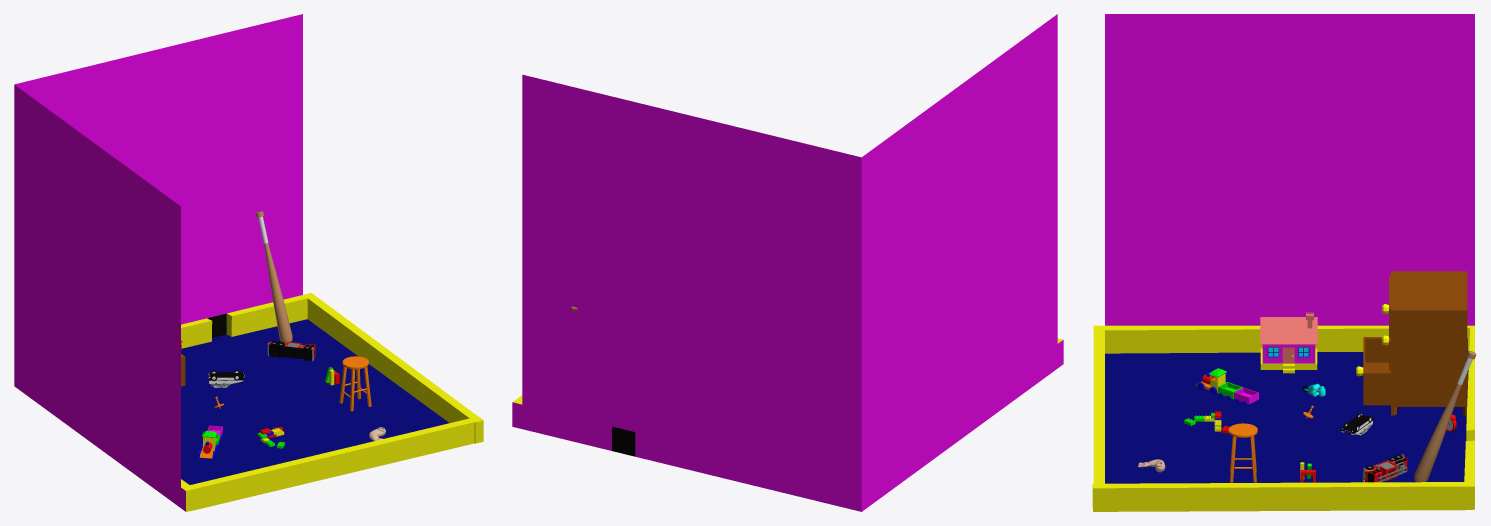
File: Level 6.fbx
3 views of the same model, side by side, from view 1: azimuth 30°, elevation 25°; view 2: azimuth 150°, elevation 25°; view 3: azimuth 270°, elevation 25° (orthographic). The views are drawn at different scales.
Visible parts, largest first — view 1: Environment, BaseballBat, Stool, Firetruck, Train; view 2: Environment; view 3: Environment, Drawer, Dollhouse, BaseballBat, Train, Firetruck, Stool.
Part boxes in pixels (left/top/right/bottom): Environment: left=14, top=14, right=483, bottom=511; BaseballBat: left=256, top=211, right=292, bottom=343; Stool: left=339, top=356, right=371, bottom=411; Firetruck: left=267, top=341, right=315, bottom=361; Train: left=198, top=425, right=223, bottom=458; Environment: left=512, top=14, right=1063, bottom=511; Environment: left=1092, top=14, right=1474, bottom=511; Drawer: left=1356, top=271, right=1467, bottom=415; Dollhouse: left=1260, top=312, right=1317, bottom=373; BaseballBat: left=1414, top=350, right=1476, bottom=482; Train: left=1195, top=368, right=1258, bottom=405; Firetruck: left=1362, top=454, right=1407, bottom=482; Stool: left=1228, top=423, right=1257, bottom=482.
Size of the model in its own units: 6797 by 6631 by 6847.
